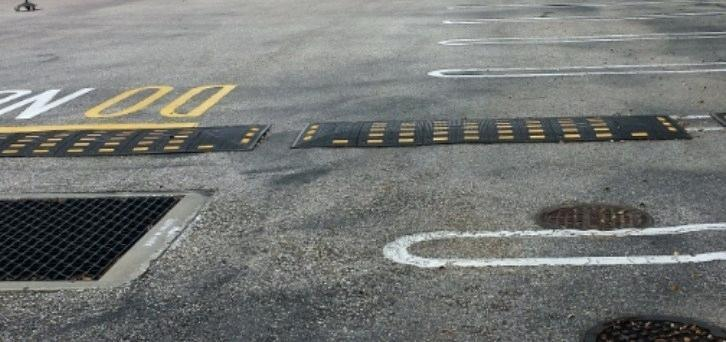Bump: (303, 117, 680, 142), (0, 119, 258, 151)
